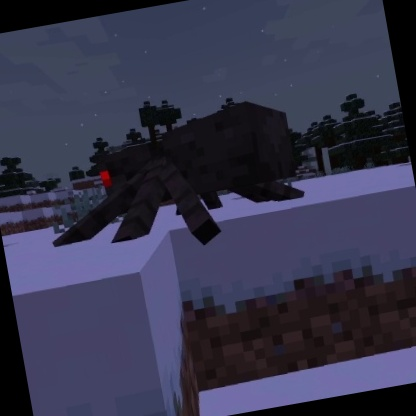spider: (31, 91, 316, 275)
